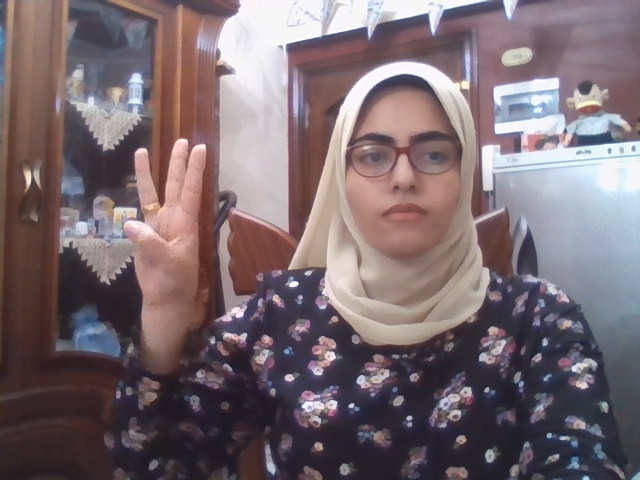W: (123, 138, 206, 303)
